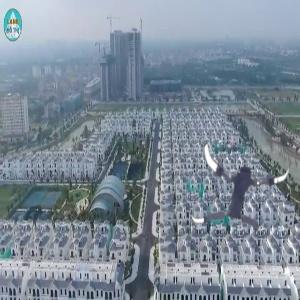drone: (191, 134, 293, 236)
